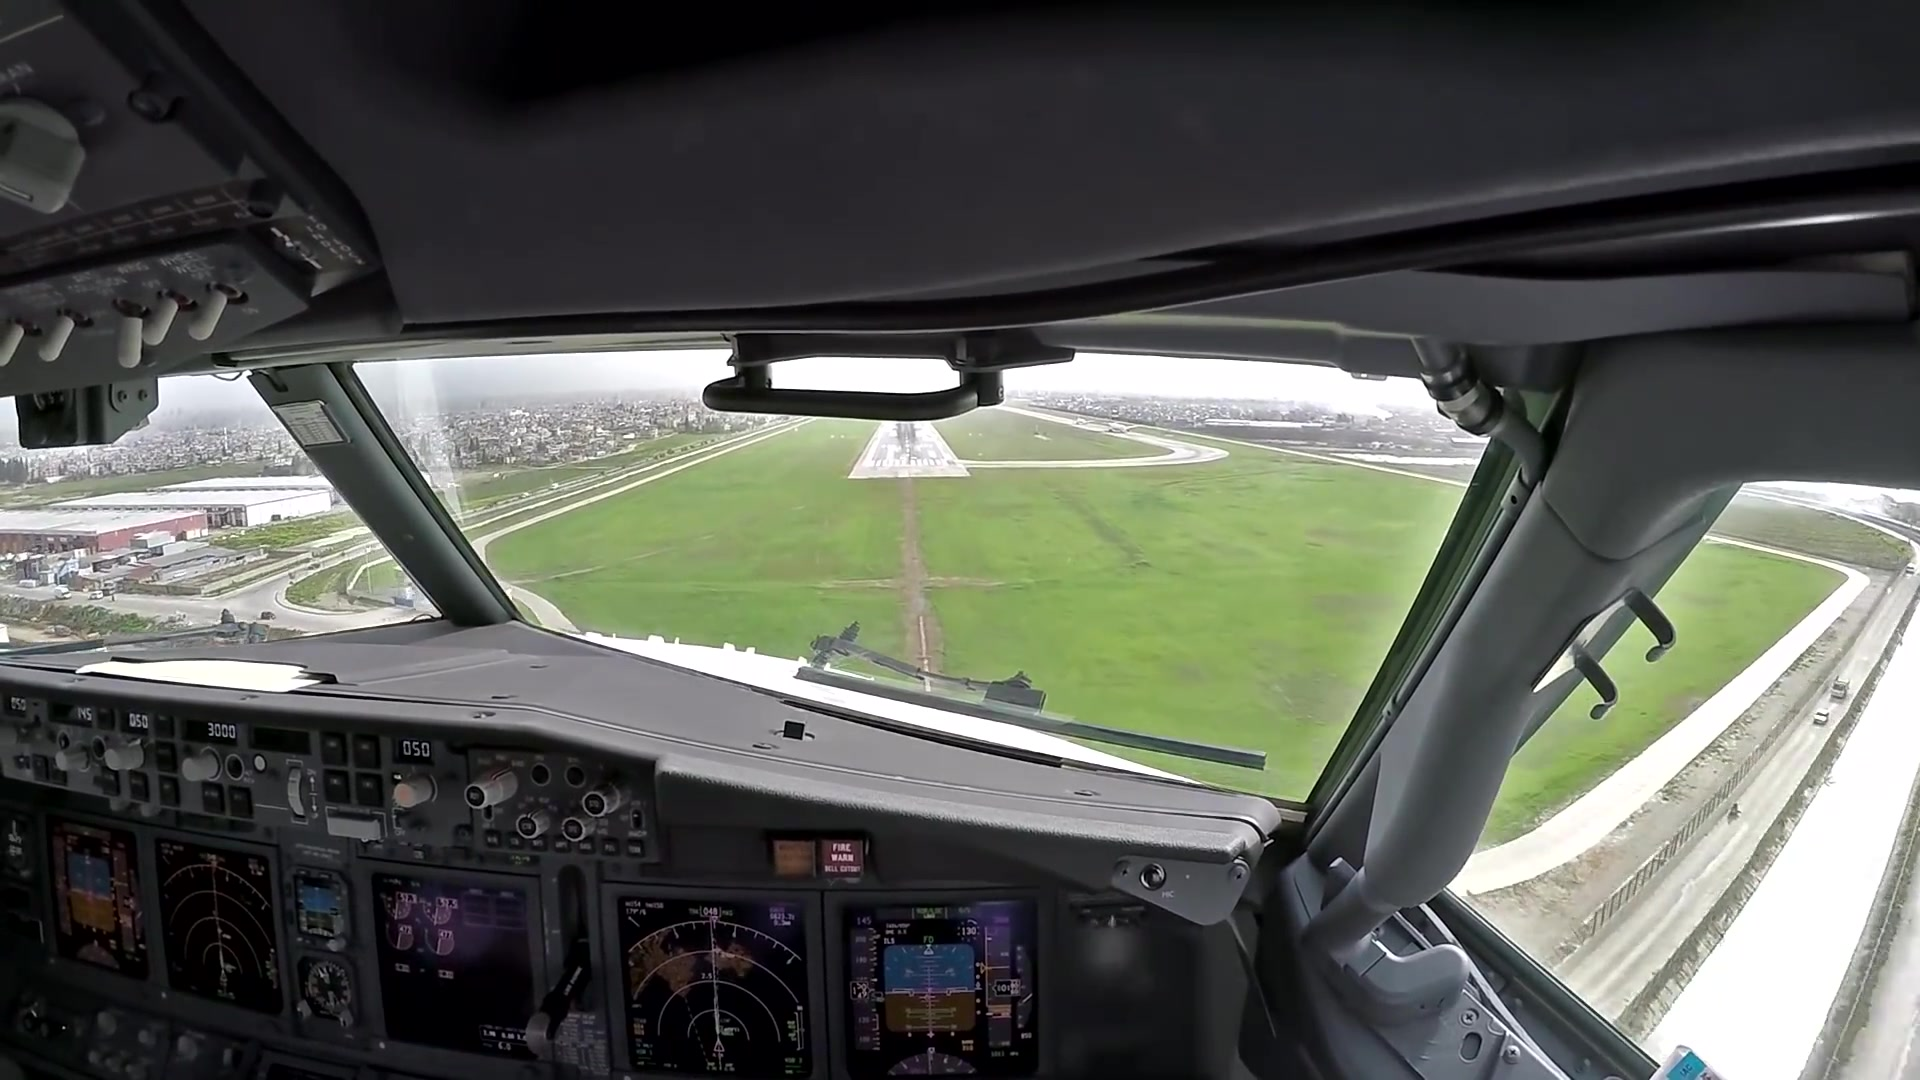entrance: (855, 452, 957, 469)
runway: (844, 422, 971, 481)
